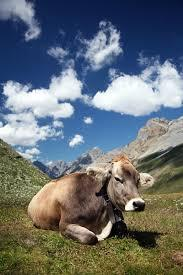cow: (27, 156, 154, 243)
